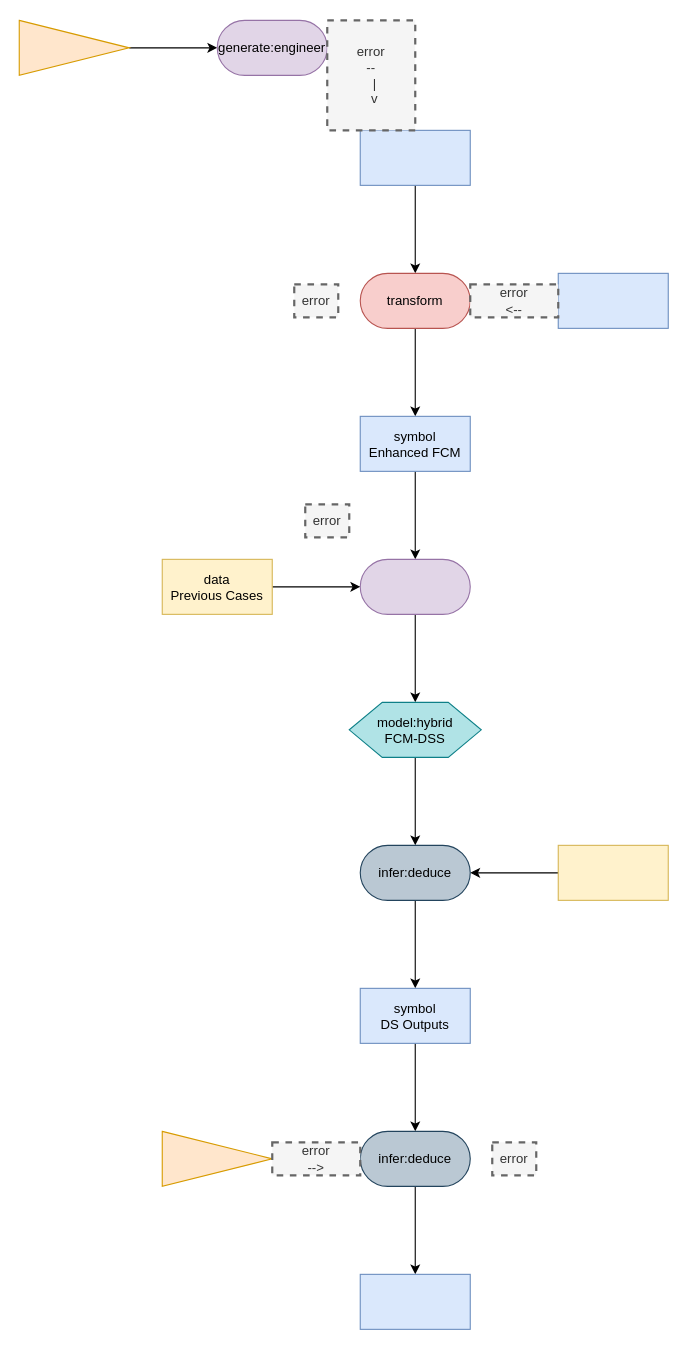
The diagram is 688 pixels wide and 1349 high, and some of its shapes have lost their labels. The centre of each missing label's shape, as x and y in pixels:
"actor Experts" goes at point (73, 47).
"actor Professionals" goes at point (216, 1158).
"data Real-Time Patient Data" goes at point (612, 872).
"generate:train" goes at point (414, 586).
"symbol Additional Existing Knowledge" goes at point (612, 300).
"symbol Preliminary FCM" goes at point (414, 157).
"symbol Updated DS Outputs" goes at point (414, 1301).
